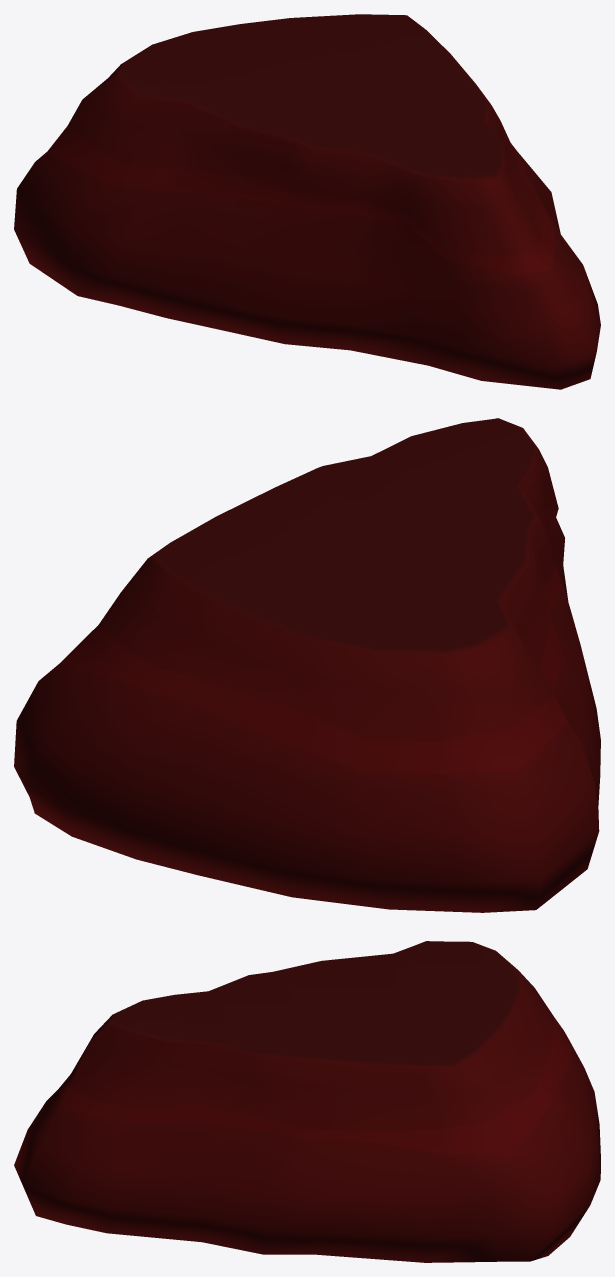
Rendered from geology-landforms-aliencliff_v1.fbx.
3 views of the same model, one above another, from view 1: azimuth 30°, elevation 25°; view 2: azimuth 150°, elevation 25°; view 3: azimuth 270°, elevation 25° (orthographic). The views are drawn at different scales.
Parts seen in each view (by area): view 1: AlienCliff_v1; view 2: AlienCliff_v1; view 3: AlienCliff_v1.
Part boxes in pixels (<box>): AlienCliff_v1: <box>14,14,600,389</box>; AlienCliff_v1: <box>14,418,600,912</box>; AlienCliff_v1: <box>14,941,600,1262</box>.
Size of the model in its own units: 68.17 by 28.53 by 89.
